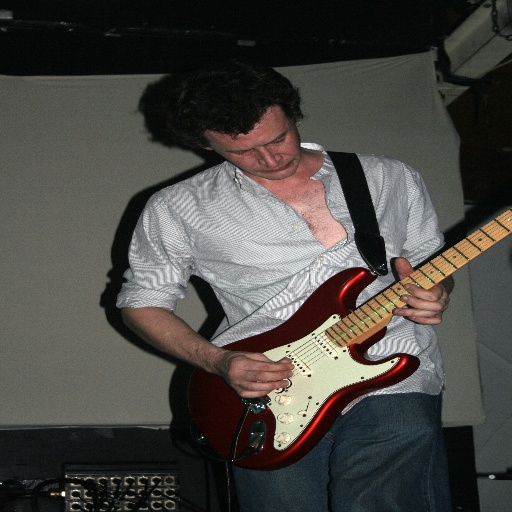hand: (392, 256, 452, 325), (222, 349, 297, 398)
